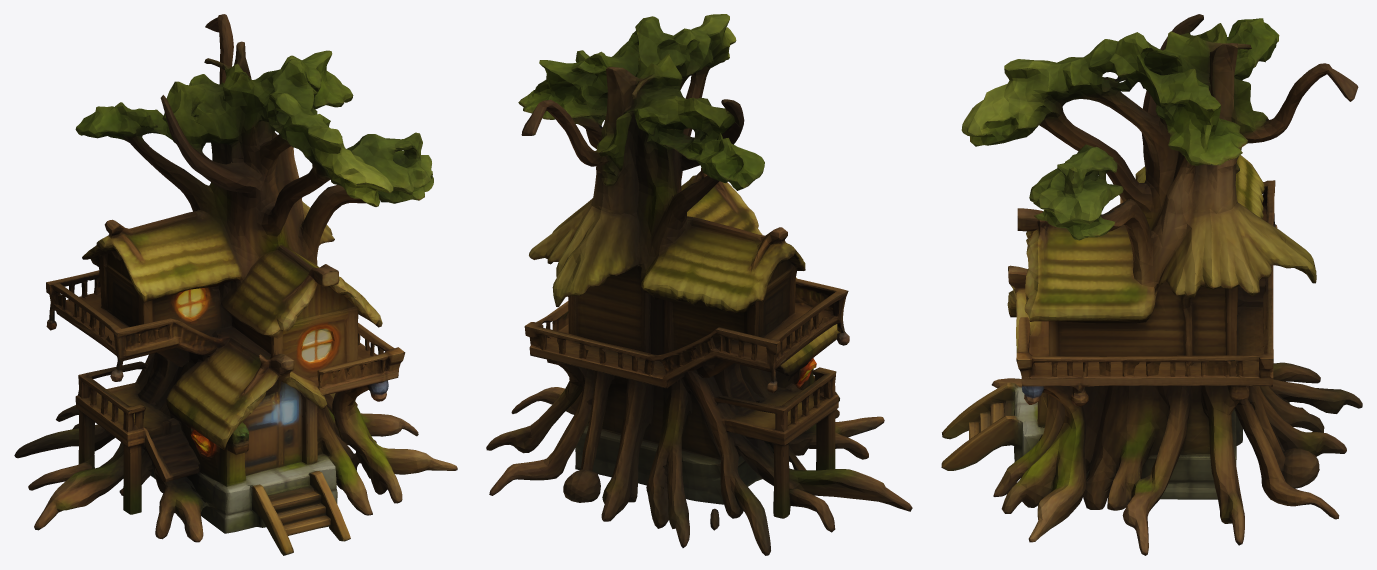
Rendered from treehouse.glb.
3 views of the same model, side by side, from view 1: azimuth 30°, elevation 25°; view 2: azimuth 150°, elevation 25°; view 3: azimuth 270°, elevation 25° (orthographic). The views are drawn at different scales.
Visible parts, largest first — view 1: world; view 2: world; view 3: world.
Part boxes in pixels (left/top/right/bottom): world: left=14, top=14, right=457, bottom=555; world: left=486, top=14, right=912, bottom=555; world: left=941, top=14, right=1362, bottom=555.
Size of the model in its own units: 0.9776 by 1 by 0.8375.
1 material, 1 textured.
